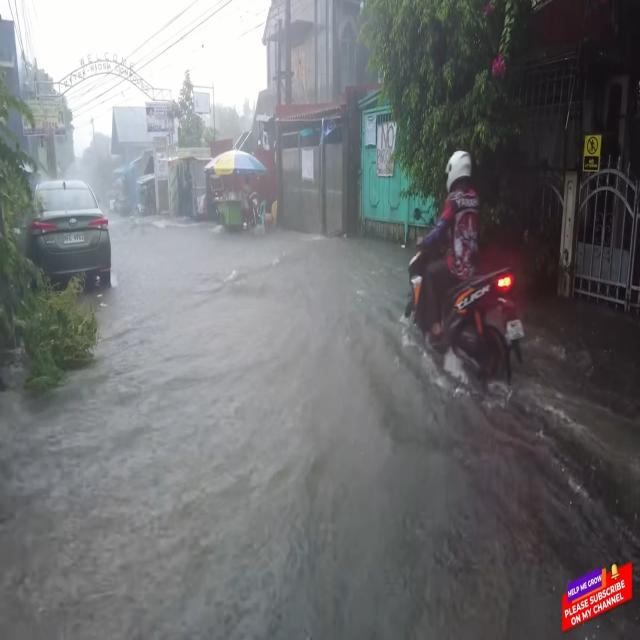full: (440, 144, 476, 203)
